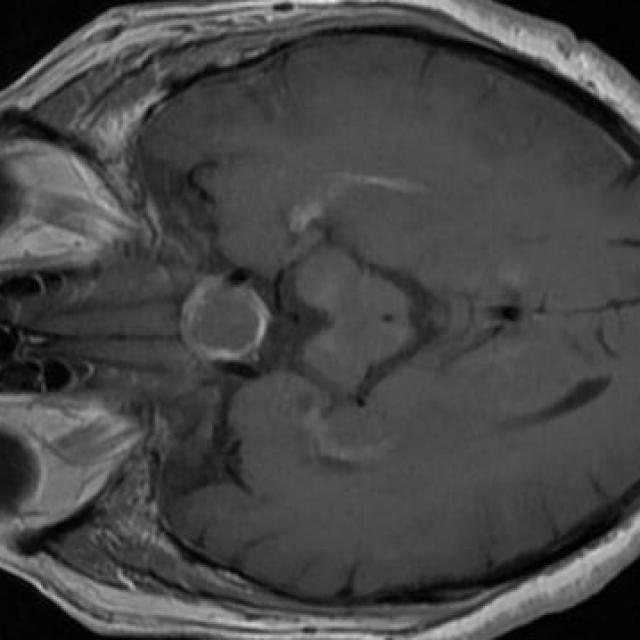pituitary: (182, 278, 269, 362)
